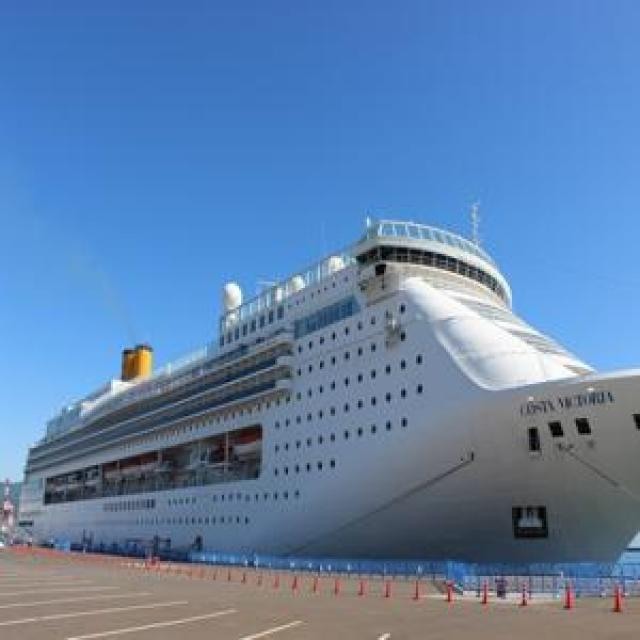passenger ship: (22, 212, 640, 582)
